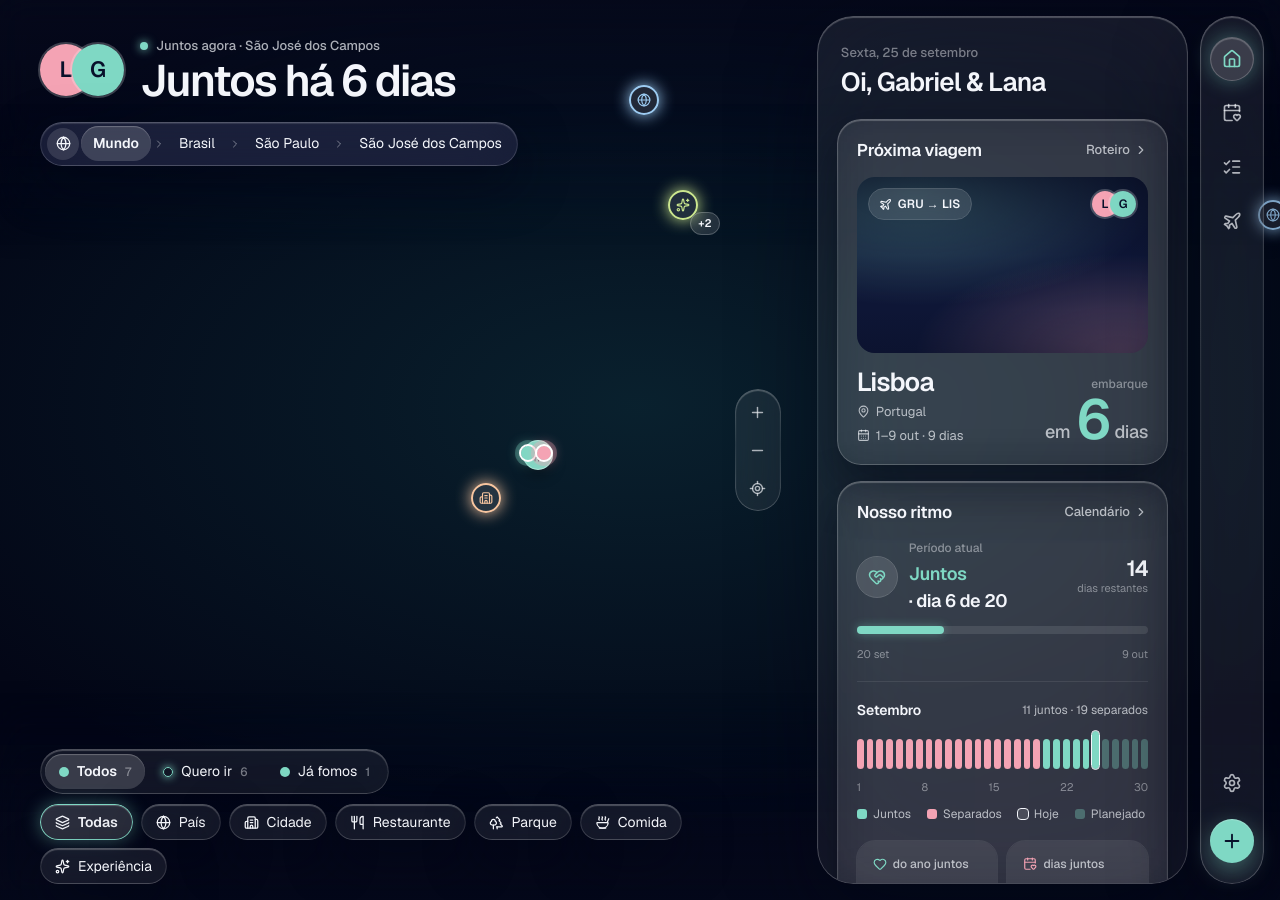
Scenario: A9 (Fase 6) — /viagens e /viagens/<id> › clicar em Viagens vai para /viagens, renderiza as Viagens e marca o destino
Click the link named "Viagens": point(1232, 221) 1210,199 -> 1254,243
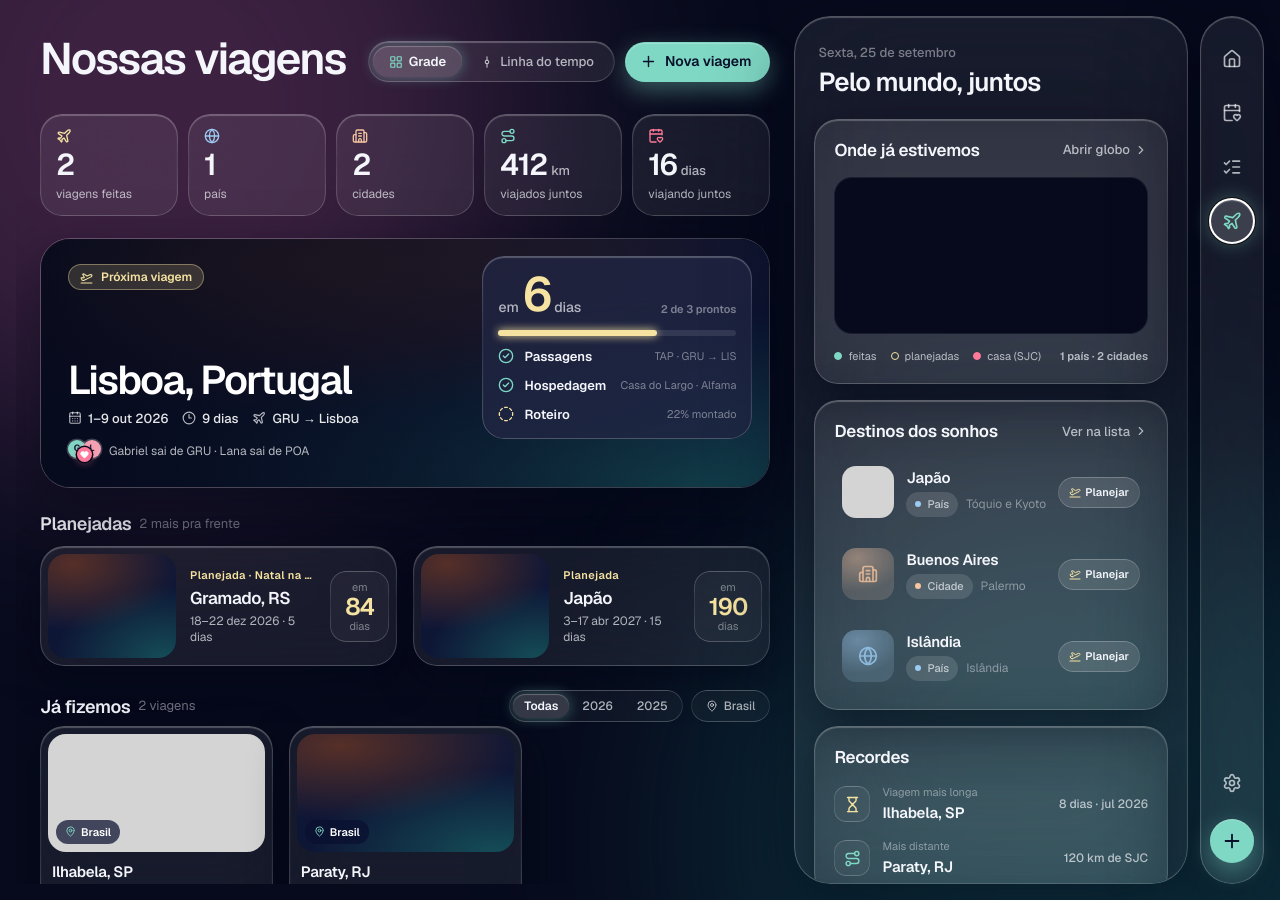
Expected: the heading "Nossas viagens" is shown, 40,36 -> 346,82
